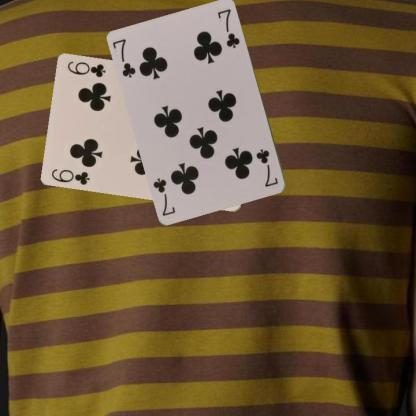6c: (49, 166, 92, 186)
7c: (110, 36, 137, 80), (254, 146, 280, 188)
